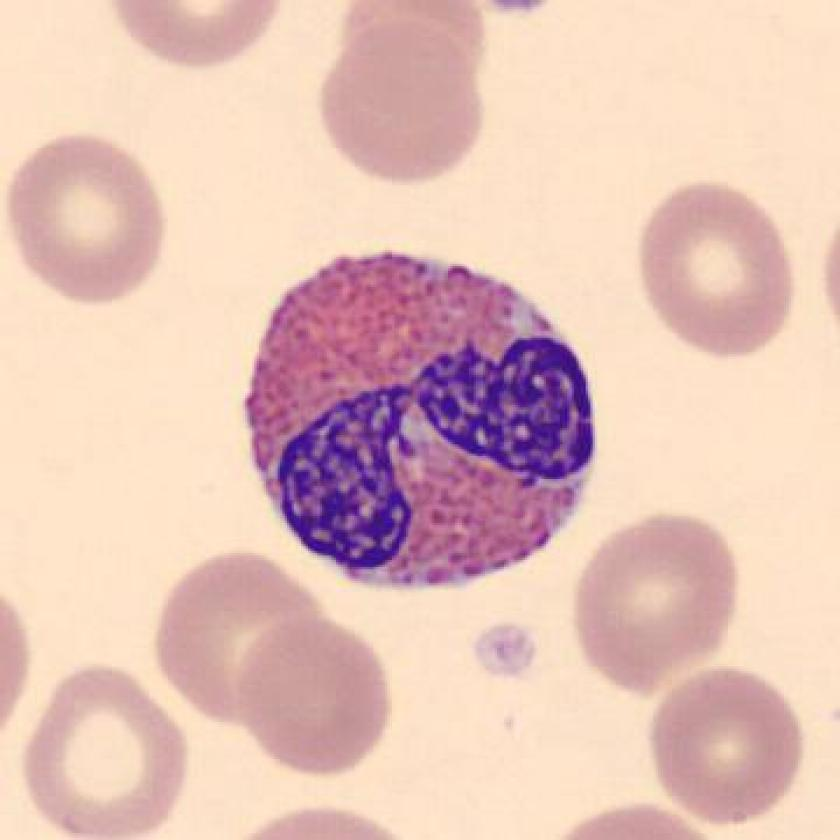eosinophil: (230, 235, 615, 607)
